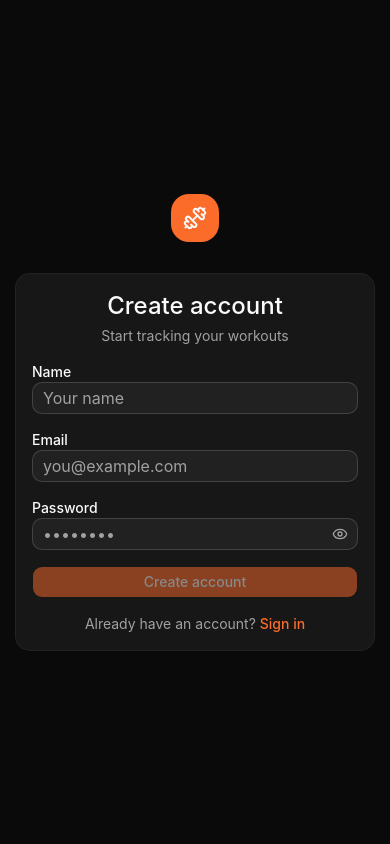
RegisterPage — error handling › shows the API error detail for other API errors
Type "Alice" into the field labelled "Name" at (195, 398), box [32,382,358,414]
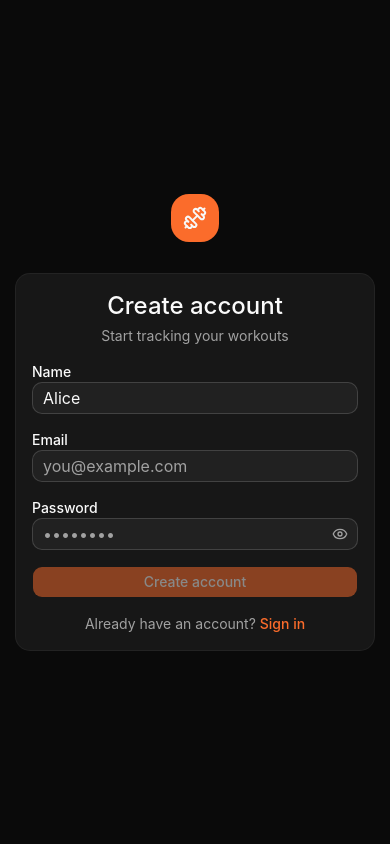
Type "alice@example.com" into the field labelled "Email" at (195, 466), box [32,450,358,482]
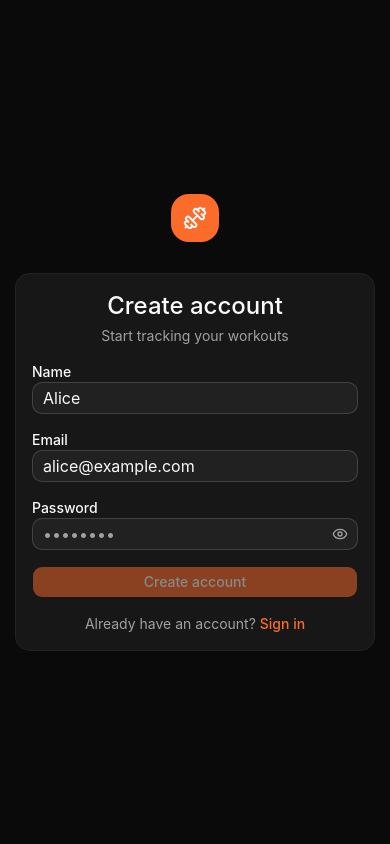
Type "Password1" into the password field labelled "Password" at (195, 534), box [32,518,358,550]
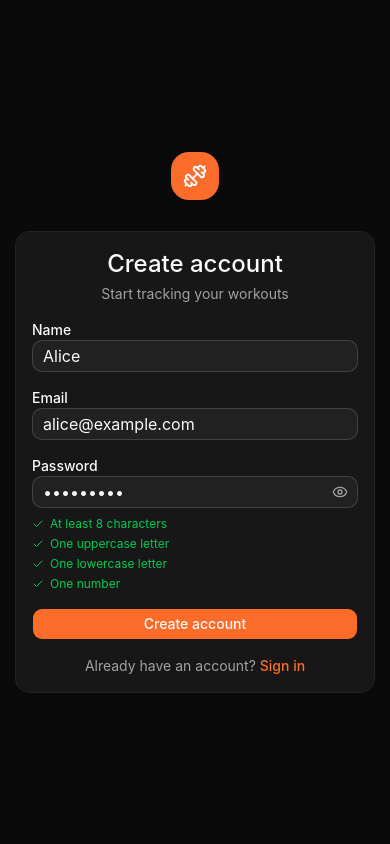
Submit the form named "create account", box [32,320,358,640]
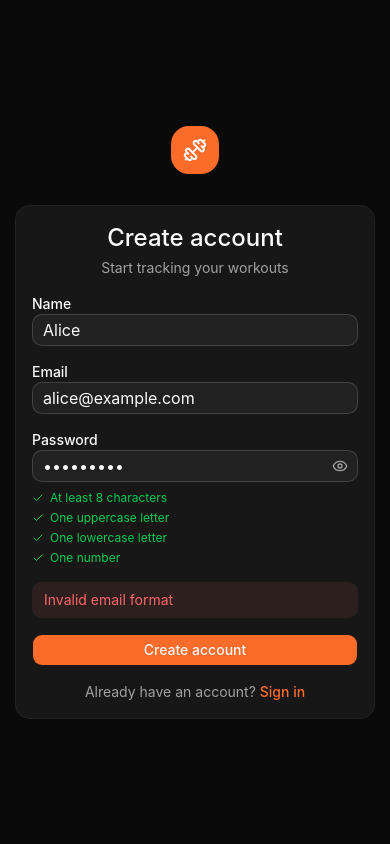
expect the text "Invalid email format" is shown: met, box [32,582,358,618]
